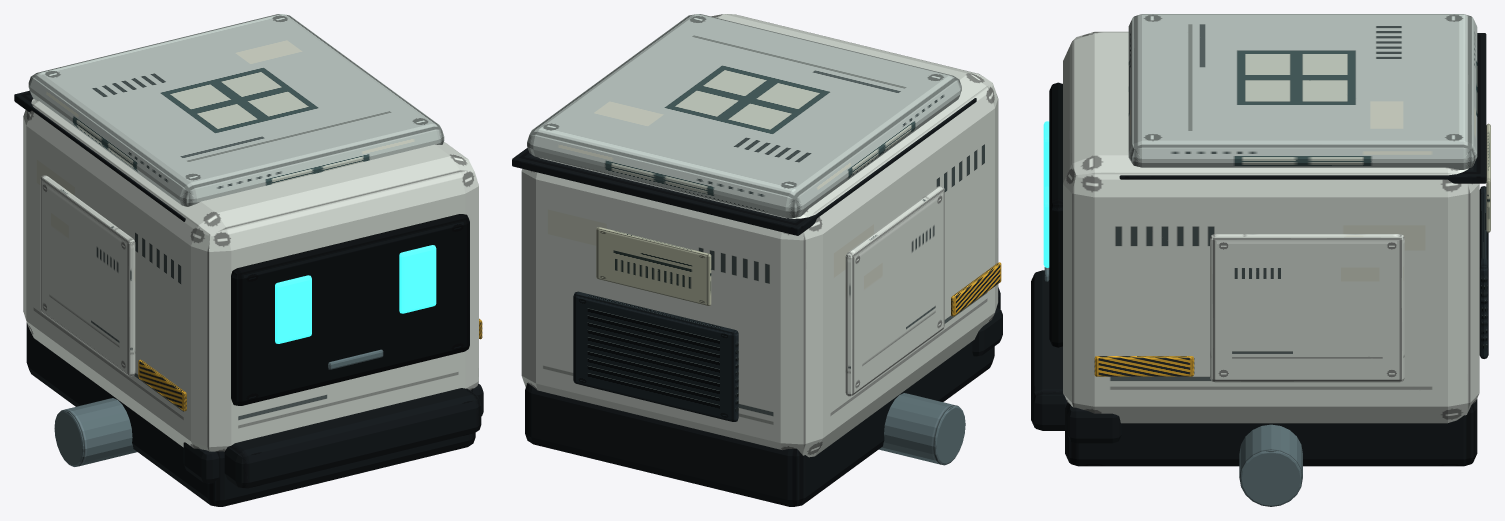
The model's file is SM_DeliveryRobot_Body.fbx.
3 views of the same model, side by side, from view 1: azimuth 30°, elevation 25°; view 2: azimuth 150°, elevation 25°; view 3: azimuth 270°, elevation 25° (orthographic). The views are drawn at different scales.
Parts seen in each view (by area): view 1: SM_DeliveryRobot_Body; view 2: SM_DeliveryRobot_Body; view 3: SM_DeliveryRobot_Body.
Part boxes in pixels (x1=…): SM_DeliveryRobot_Body: x1=14, y1=14, x2=483, y2=506; SM_DeliveryRobot_Body: x1=512, y1=14, x2=1002, y2=506; SM_DeliveryRobot_Body: x1=1031, y1=14, x2=1490, y2=506.
Size of the model in its own units: 100 by 101 by 81.5.
